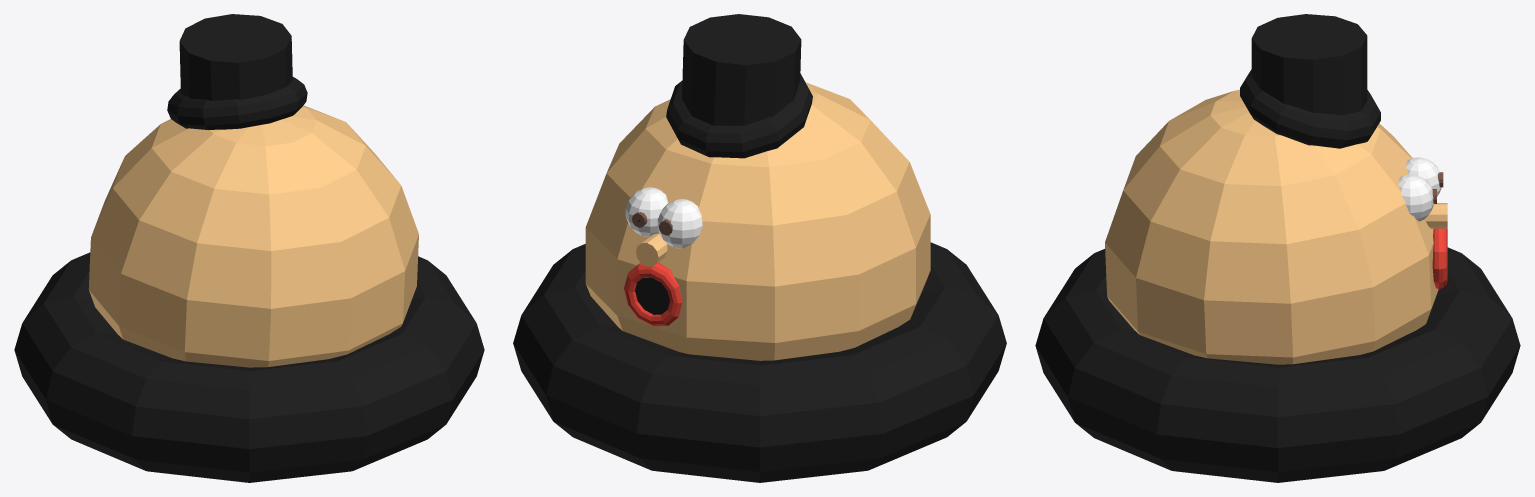
Rendered from Enemy_Sam.fbx.
3 renders of one model, left to right at view 1: azimuth 30°, elevation 25°; view 2: azimuth 150°, elevation 25°; view 3: azimuth 270°, elevation 25°, orthographic. The views are drawn at different scales.
Visible parts, largest first — view 1: mesh_2071909503, mesh_1591324165, mesh_594011186, mesh_207840576; view 2: mesh_1591324165, mesh_2071909503, mesh_594011186, mesh_207840576, mesh_794691060, mesh_1279259875, mesh_1458680487, mesh_1059597829, mesh_2112828604; view 3: mesh_2071909503, mesh_1591324165, mesh_594011186, mesh_207840576, mesh_1458680487, mesh_794691060, mesh_1279259875.
Part boxes in pixels (<box>): mesh_2071909503: <box>88,105,418,367</box>; mesh_1591324165: <box>14,252,484,482</box>; mesh_594011186: <box>179,14,292,100</box>; mesh_207840576: <box>167,77,307,129</box>; mesh_1591324165: <box>513,242,1006,482</box>; mesh_2071909503: <box>585,82,930,360</box>; mesh_594011186: <box>682,14,801,125</box>; mesh_207840576: <box>666,73,812,158</box>; mesh_794691060: <box>624,262,682,326</box>; mesh_1279259875: <box>657,199,702,248</box>; mesh_1458680487: <box>625,187,668,236</box>; mesh_1059597829: <box>635,277,669,314</box>; mesh_2112828604: <box>636,233,667,266</box>; mesh_2071909503: <box>1105,89,1438,364</box>; mesh_1591324165: <box>1035,247,1520,482</box>; mesh_594011186: <box>1251,14,1367,115</box>; mesh_207840576: <box>1240,69,1380,148</box>; mesh_1458680487: <box>1398,174,1433,221</box>; mesh_794691060: <box>1432,228,1447,288</box>; mesh_1279259875: <box>1406,157,1441,196</box>.
Bounding box in the file's own units: 226 × 193 × 226.
